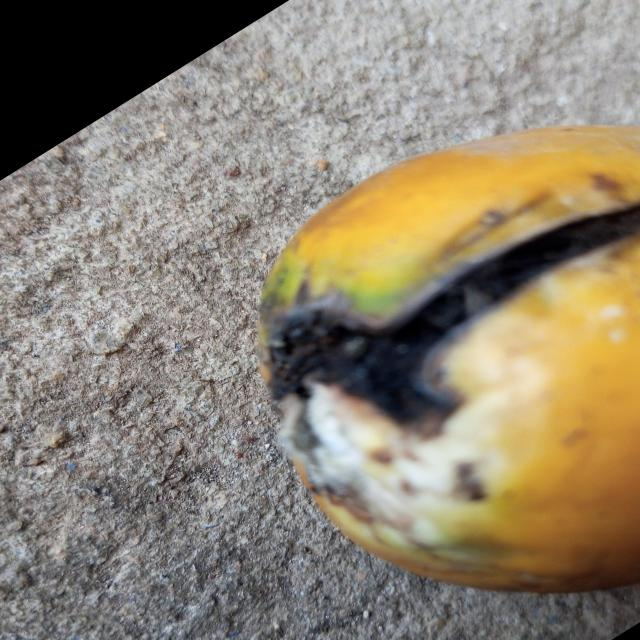damaged: (257, 125, 640, 597)
